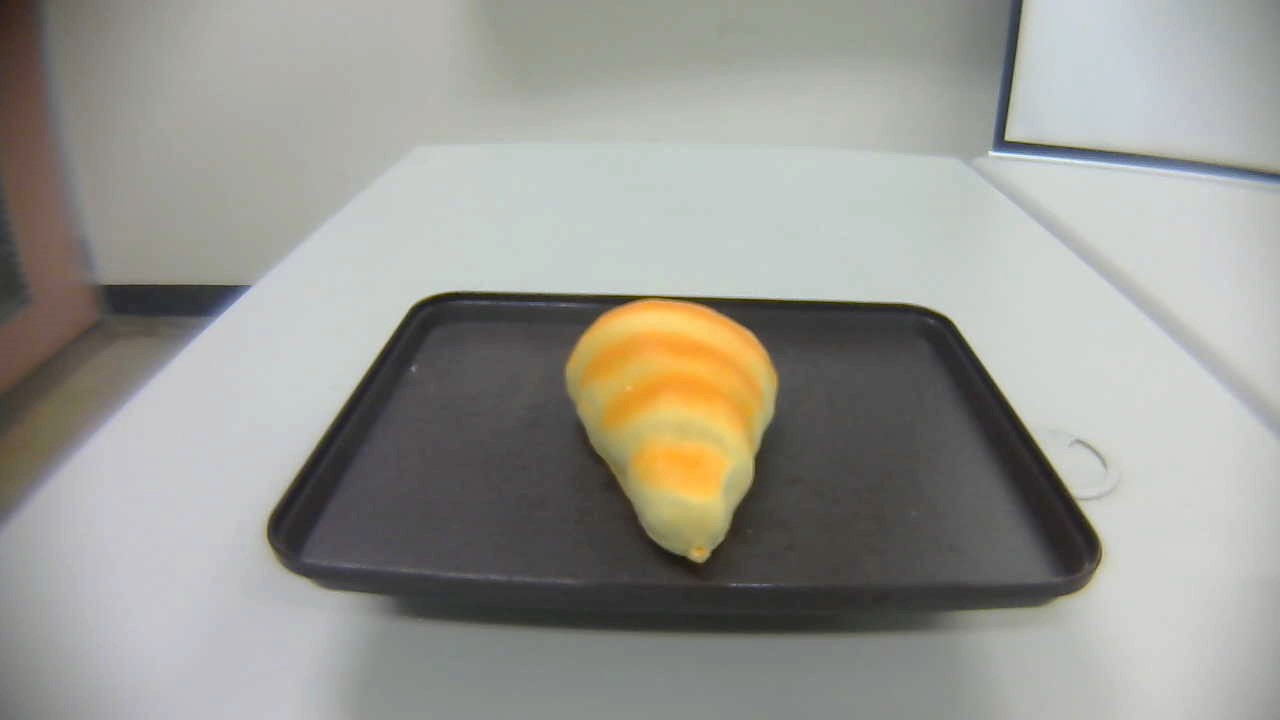croissant: (568, 298, 781, 569)
